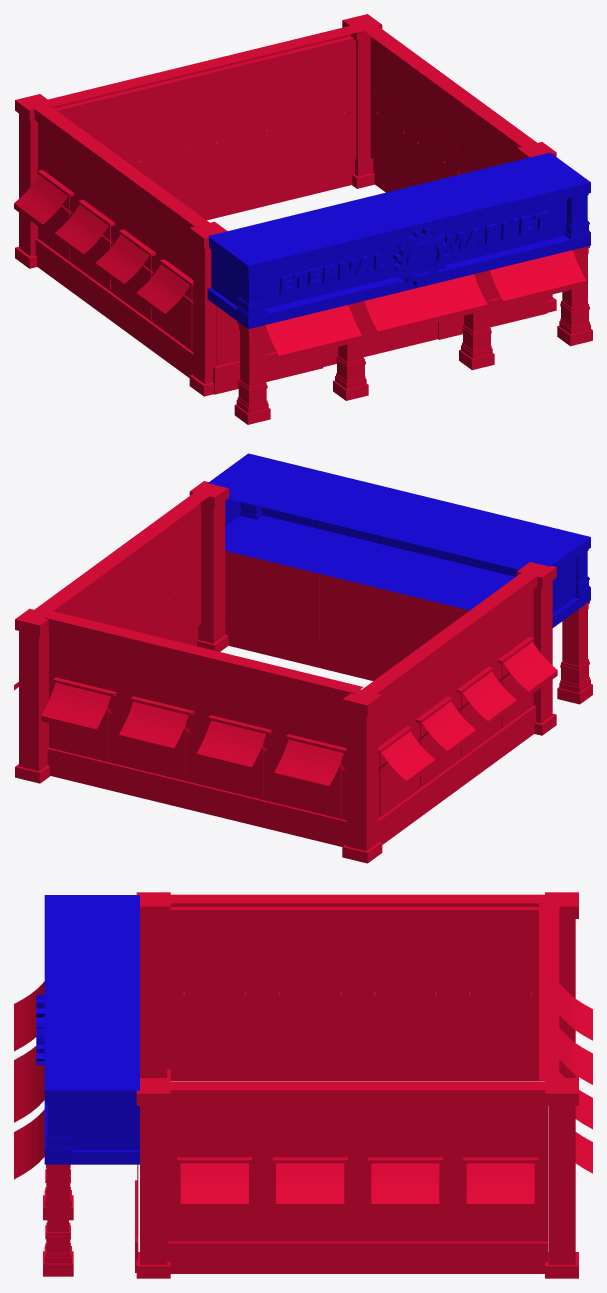
File: SM_town_market_join.fbx
The picture shows the model from 3 angles, top to bottom: view 1: azimuth 30°, elevation 25°; view 2: azimuth 150°, elevation 25°; view 3: azimuth 270°, elevation 25°; orthographic projection. The views are drawn at different scales.
Parts seen in each view (by area): view 1: market_mainwall, sign, market_mainwall.001; view 2: market_mainwall, sign; view 3: market_mainwall, sign, market_mainwall.001.
Boxes of the visible parts, bbox=[...] form: market_mainwall: bbox=[14, 14, 592, 424]; sign: bbox=[207, 152, 590, 328]; market_mainwall.001: bbox=[265, 250, 586, 360]; market_mainwall: bbox=[15, 481, 592, 863]; sign: bbox=[208, 453, 590, 627]; market_mainwall: bbox=[43, 892, 592, 1278]; sign: bbox=[36, 895, 139, 1164]; market_mainwall.001: bbox=[14, 981, 534, 1210].
Bounding box in the file's own units: 1558 × 602 × 1701.
